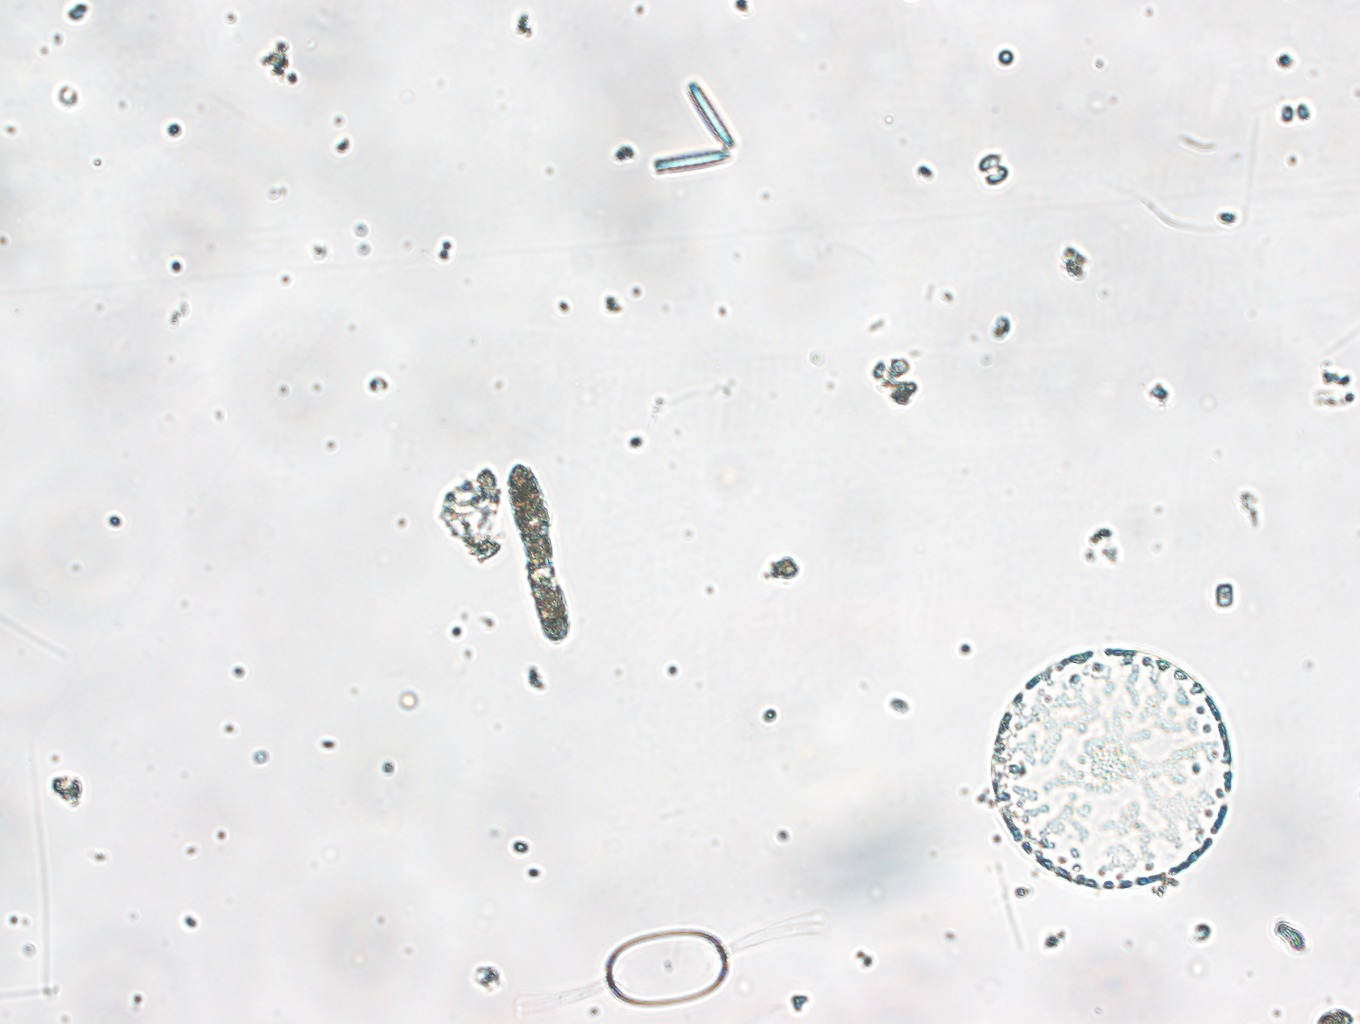coscinodiscus: (991, 643, 1240, 900)
thalassionema nitzschioides: (648, 77, 747, 183)
